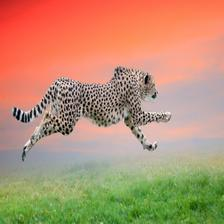Cheetah: (8, 65, 173, 166)
